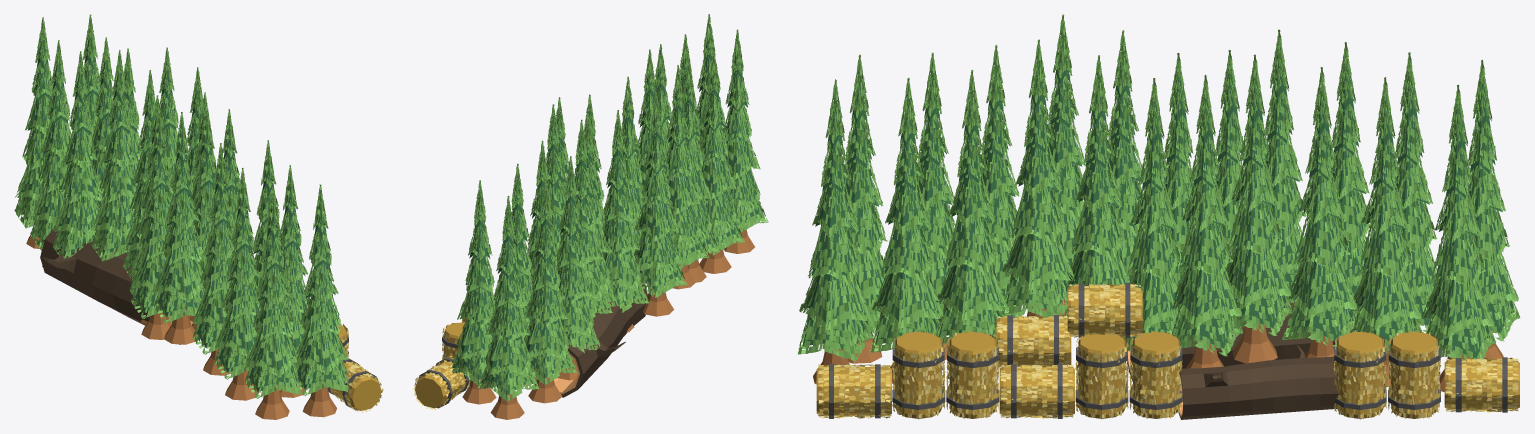
The model's file is BORDER_RIGHT.fbx.
3 views of the same model, side by side, from view 1: azimuth 30°, elevation 25°; view 2: azimuth 150°, elevation 25°; view 3: azimuth 270°, elevation 25° (orthographic). The views are drawn at different scales.
Visible parts, largest first — view 1: Cylinder.059; view 2: Cylinder.059; view 3: Cylinder.059.
Boxes of the visible parts, bbox=[...] form: Cylinder.059: bbox=[14, 14, 383, 419]; Cylinder.059: bbox=[413, 14, 768, 419]; Cylinder.059: bbox=[797, 14, 1519, 419].
Size of the model in its own units: 5729 by 8357 by 16013.
